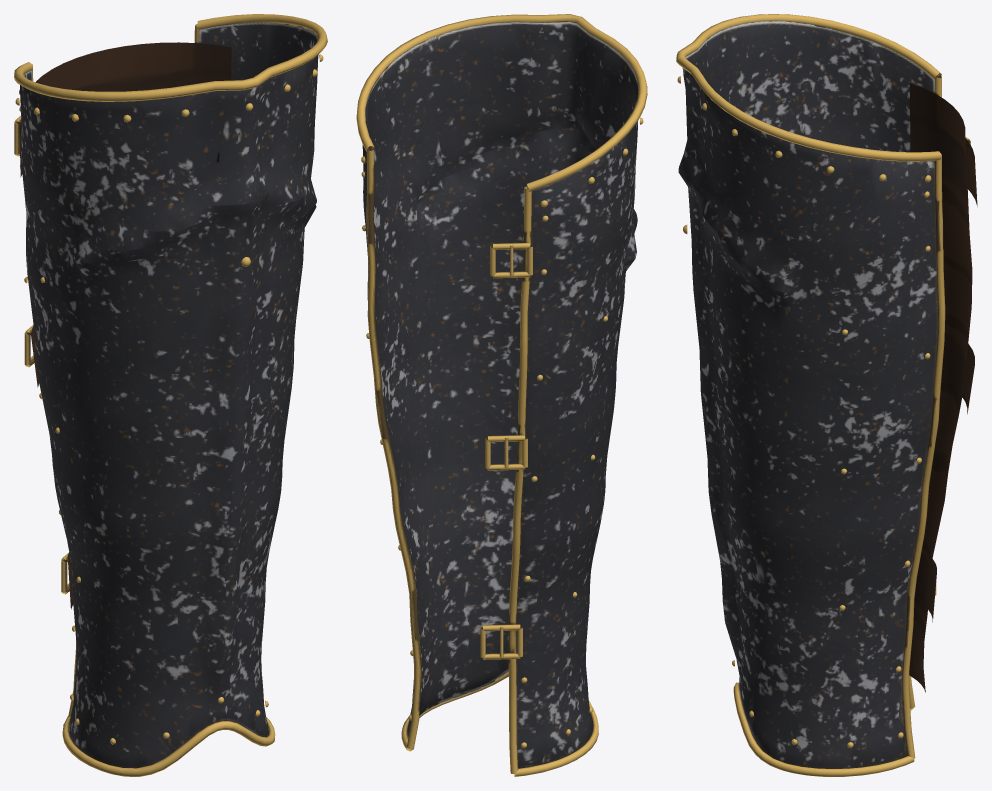
File: SM_EagleGreaves_R_LOD1.fbx
3 views of the same model, side by side, from view 1: azimuth 30°, elevation 25°; view 2: azimuth 150°, elevation 25°; view 3: azimuth 270°, elevation 25° (orthographic). The views are drawn at different scales.
Visible parts, largest first — view 1: SM_EagleGreaves_R_LOD1; view 2: SM_EagleGreaves_R_LOD1; view 3: SM_EagleGreaves_R_LOD1.
Part boxes in pixels (box(x1,y1,x2,y2)): SM_EagleGreaves_R_LOD1: box(14, 14, 327, 776); SM_EagleGreaves_R_LOD1: box(356, 14, 647, 776); SM_EagleGreaves_R_LOD1: box(676, 14, 977, 776).
Size of the model in its own units: 0.1491 by 0.3745 by 0.1497.
